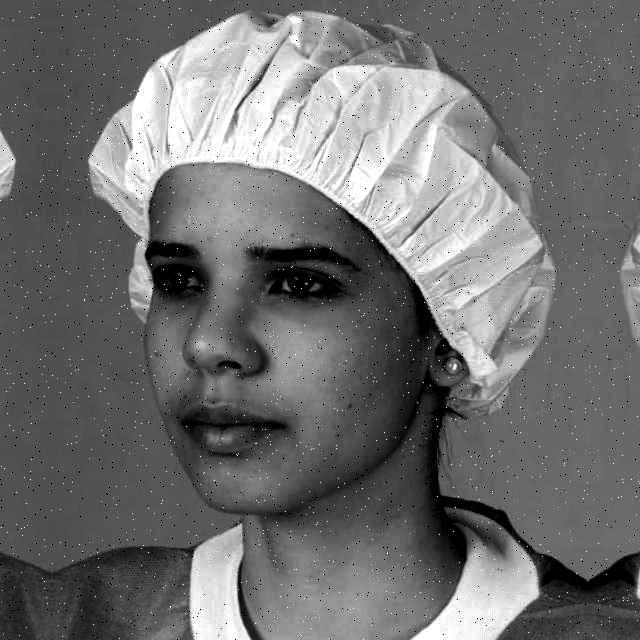gloves: (82, 12, 530, 242)
no_hairnet: (146, 333, 342, 456)
